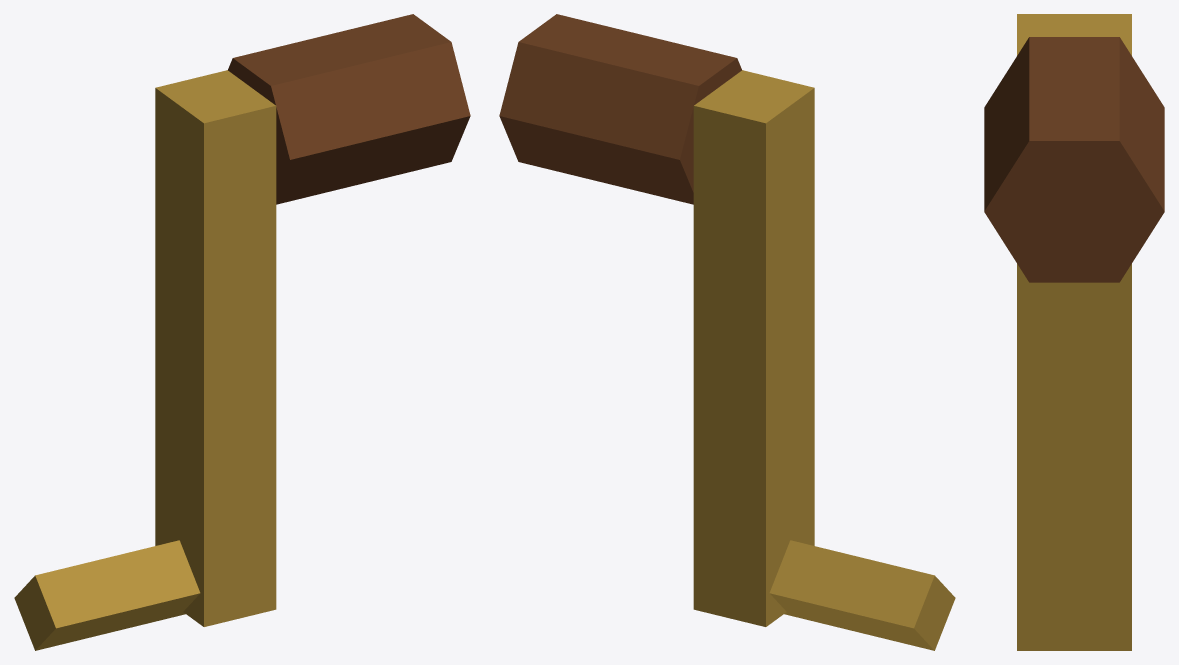
Rendered from Prop_YTM_RecordPlayer_Crank_LOD1.glb.
3 views of the same model, side by side, from view 1: azimuth 30°, elevation 25°; view 2: azimuth 150°, elevation 25°; view 3: azimuth 270°, elevation 25° (orthographic). The views are drawn at different scales.
Visible parts, largest first — view 1: Prop_YTM_RecordPlayer_Crank; view 2: Prop_YTM_RecordPlayer_Crank; view 3: Prop_YTM_RecordPlayer_Crank.
Part boxes in pixels (x1,y1,x2,y2): Prop_YTM_RecordPlayer_Crank: [14, 14, 470, 650]; Prop_YTM_RecordPlayer_Crank: [499, 14, 955, 650]; Prop_YTM_RecordPlayer_Crank: [984, 14, 1164, 650].
Size of the model in its own units: 0.066 by 0.0835 by 0.022.
